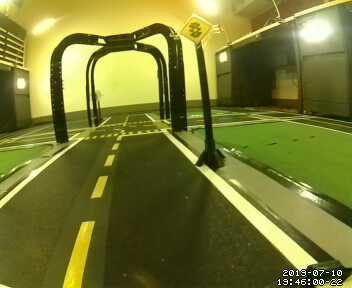Traffic light sign: (180, 12, 215, 46)
